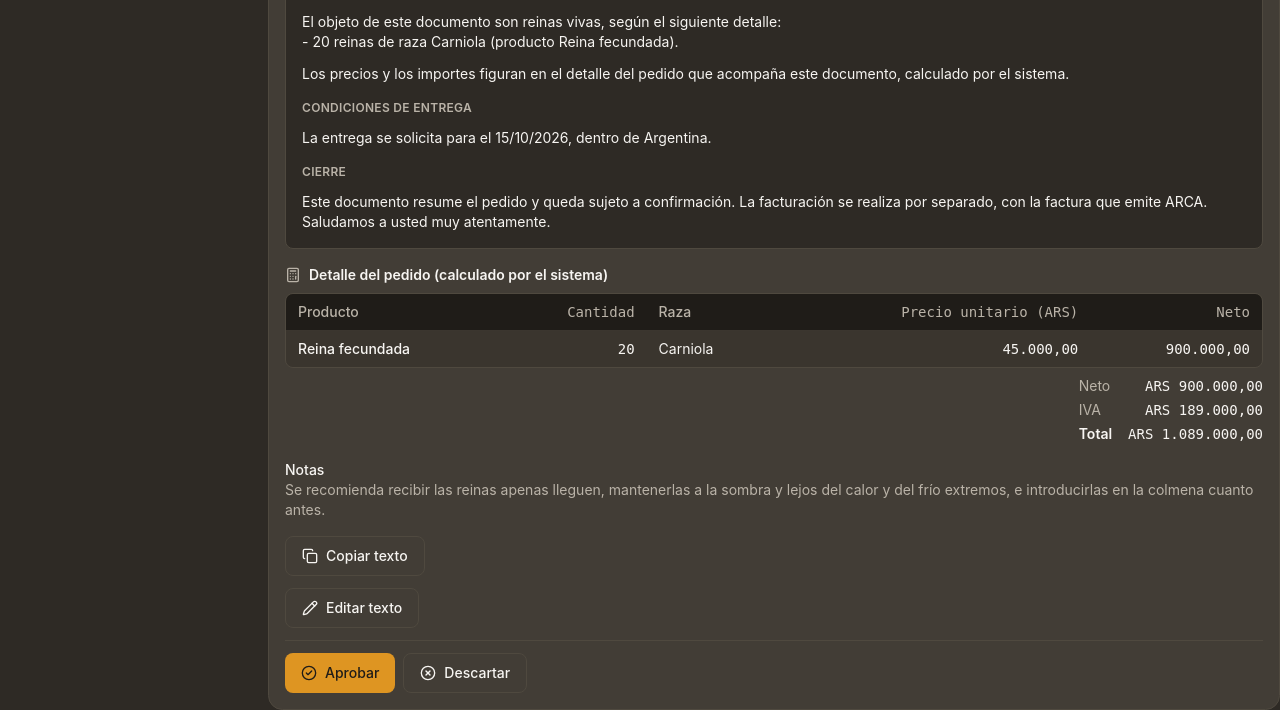
Test: aprobación del borrador en el detalle del pedido › aprobar › un 409 borrador_inmutable se explica sin el código
(page scrolled)
Click the button "Aprobar" at x=340, y=673, box [285, 653, 395, 693]
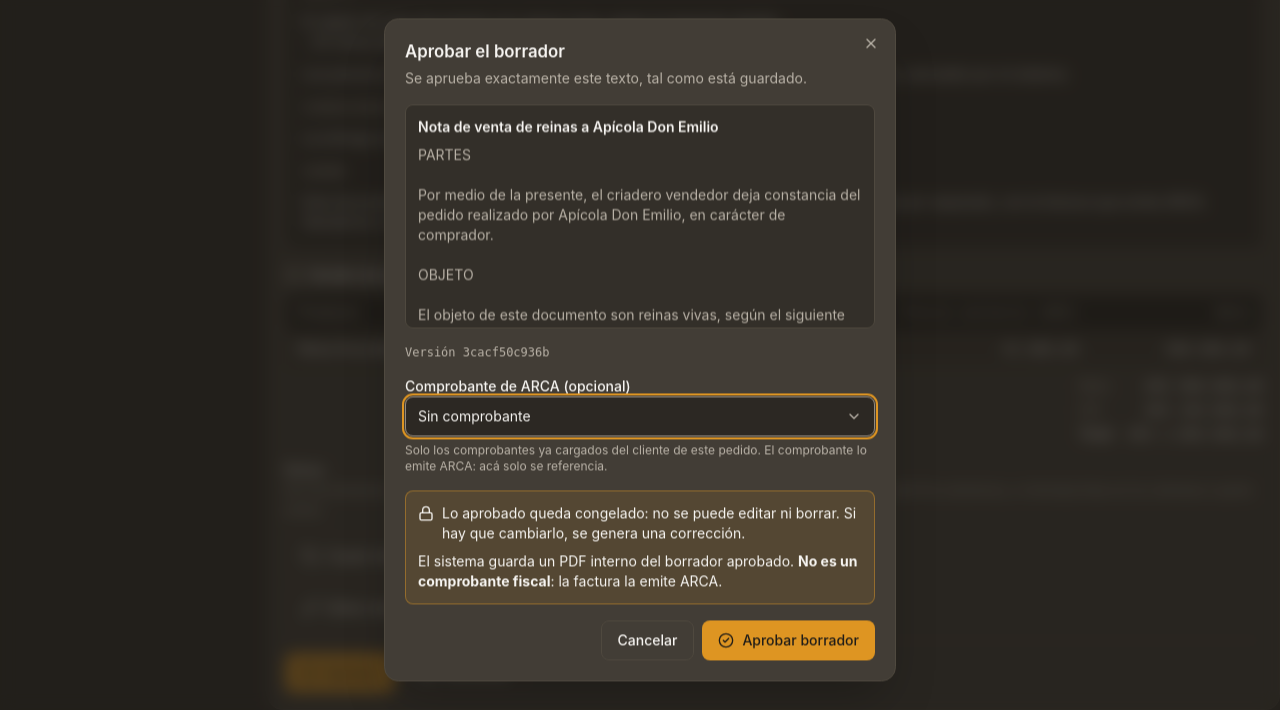
Click the button "Aprobar borrador" at x=789, y=641, box [702, 621, 875, 661]
(page scrolled)
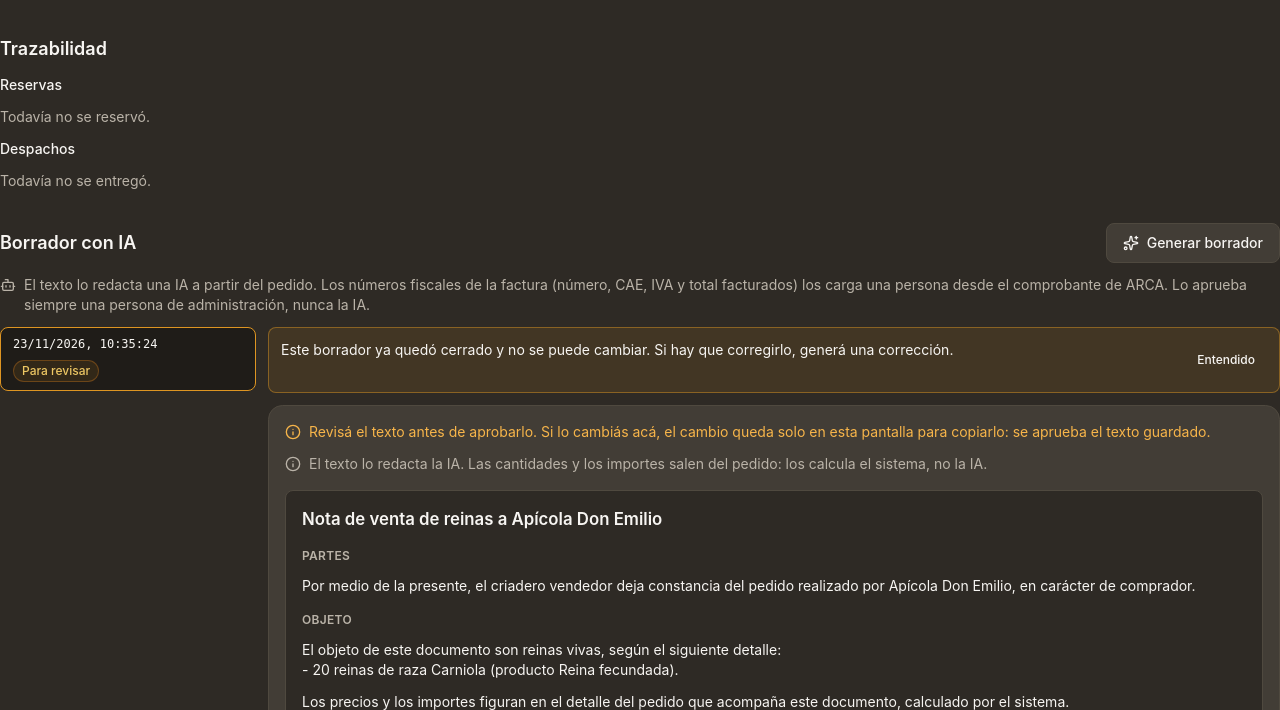
Expected: the text "ya quedó cerrado y no se puede cambiar" is shown, [281, 341, 953, 358]
